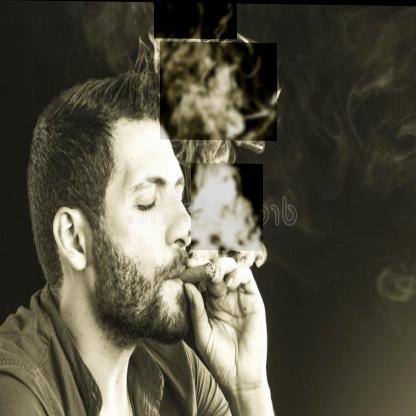smoke: (160, 41, 277, 140), (191, 162, 263, 250), (154, 2, 237, 39)
